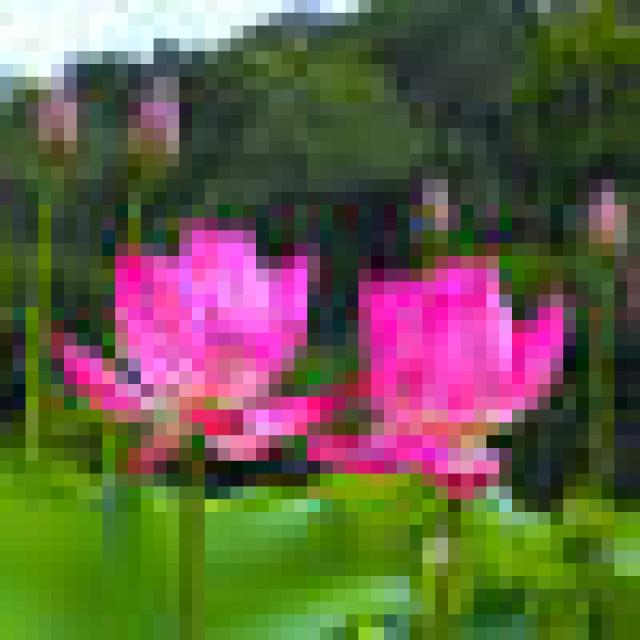lotus: (59, 160, 330, 529)
